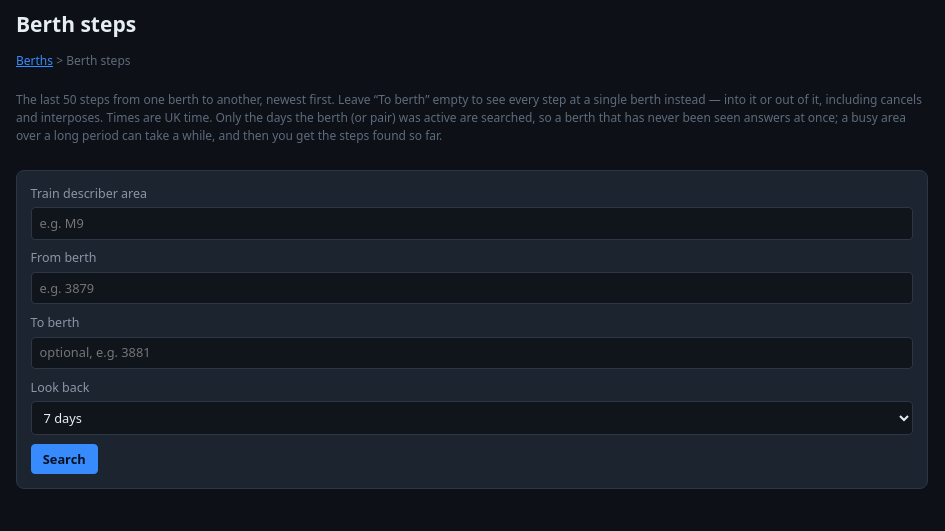
Test: BerthStepsPage (owner request 2026-09-22) › says it took too long when the proxy replaces a 504 with its own error page
Type "CL" into the field labelled "Train describer area" at (472, 224), box [31,207,913,240]
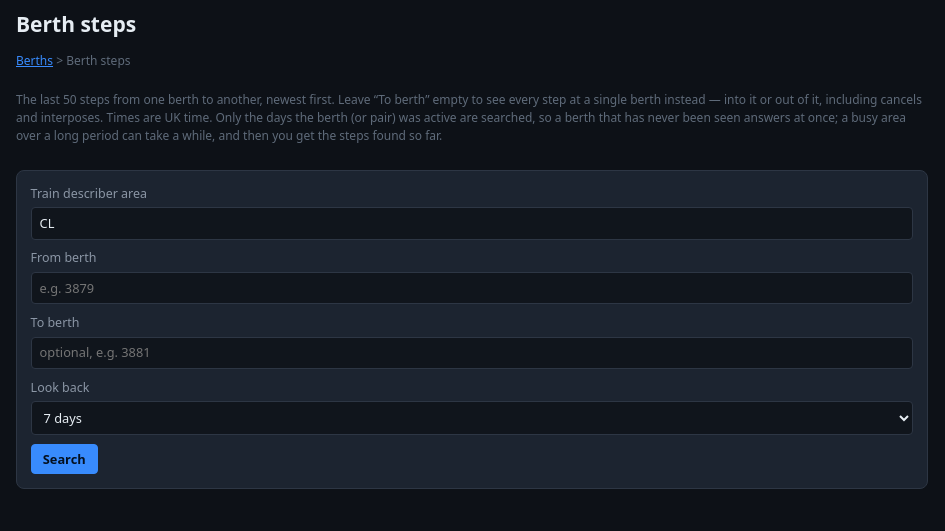
Type "A475" into the field labelled "From berth" at (472, 288), box [31,272,913,304]
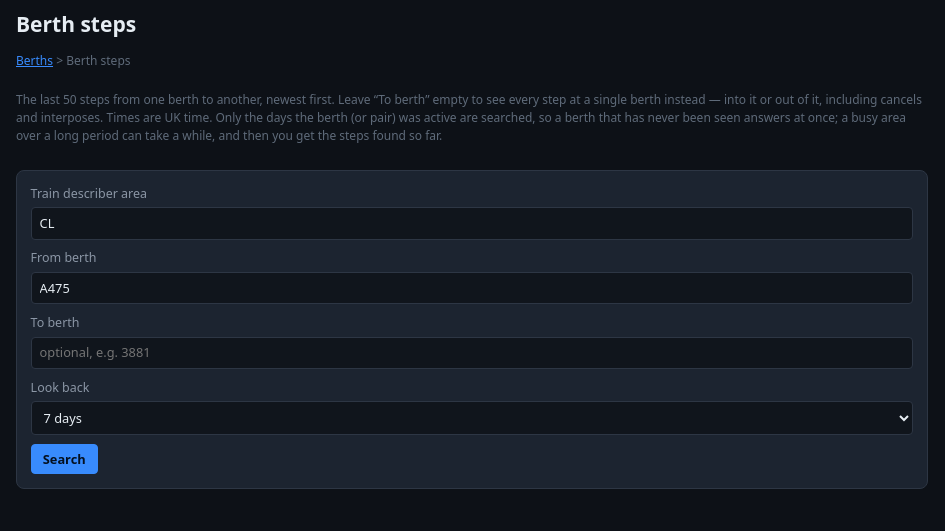
Click the button "Search" at (64, 459), box [31,444,98,474]
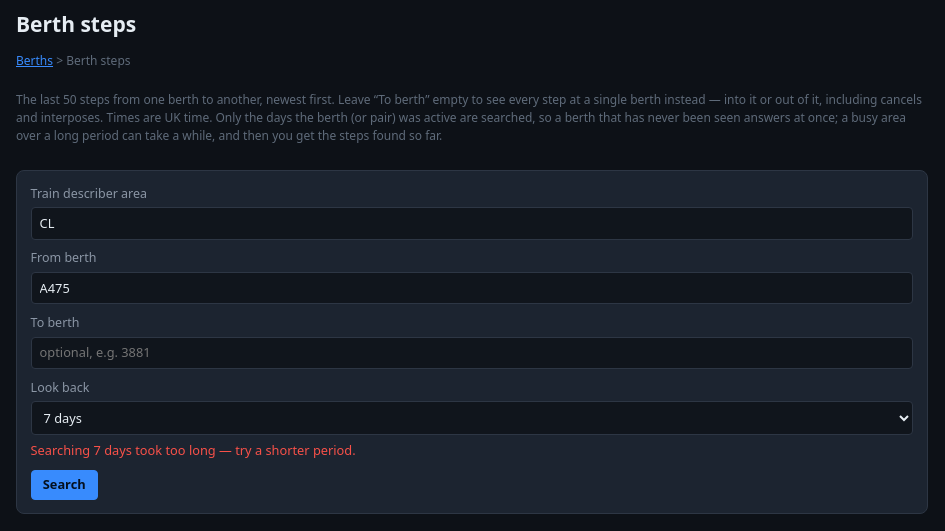
Check: the message shows "Searching 7 days took too long", box [31,441,356,459]
